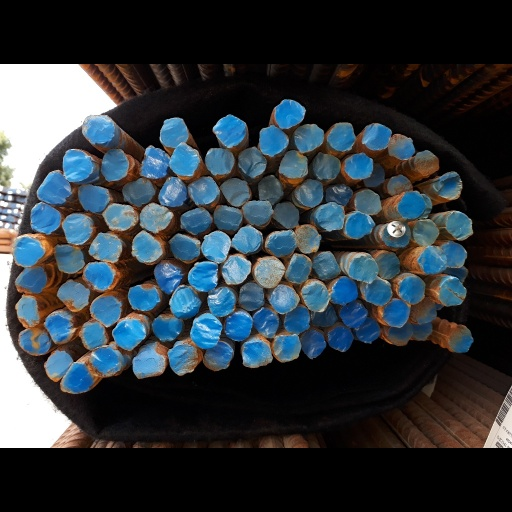dipstick: (212, 114, 247, 149), (36, 170, 72, 203), (190, 314, 222, 350), (169, 284, 202, 318), (168, 142, 200, 177), (88, 232, 123, 264), (59, 362, 93, 394), (139, 144, 170, 179), (57, 280, 90, 312), (112, 319, 145, 351), (11, 236, 45, 267), (167, 343, 199, 375), (132, 230, 163, 263), (82, 262, 116, 292), (43, 315, 77, 345), (139, 203, 174, 232), (275, 97, 306, 129), (258, 124, 289, 156), (62, 213, 93, 245), (30, 202, 61, 234), (89, 346, 121, 377), (82, 114, 115, 144), (102, 203, 137, 231), (90, 296, 121, 327), (292, 124, 324, 154), (169, 233, 201, 263), (63, 149, 93, 181), (77, 183, 109, 213), (53, 244, 85, 274), (44, 350, 74, 382), (269, 284, 300, 314), (203, 340, 233, 371), (445, 209, 474, 241), (237, 146, 266, 178), (122, 177, 154, 206), (128, 283, 160, 312), (18, 327, 51, 355), (222, 255, 252, 285), (187, 262, 217, 292), (159, 118, 189, 148), (157, 177, 187, 207), (266, 229, 297, 258), (219, 178, 250, 207), (201, 231, 230, 262), (252, 307, 279, 340), (101, 149, 128, 182), (396, 190, 426, 219), (255, 258, 285, 287), (241, 341, 273, 368), (15, 267, 47, 294), (14, 295, 40, 328), (417, 245, 446, 274), (316, 202, 345, 231), (326, 122, 355, 151), (301, 283, 330, 312), (224, 313, 253, 342), (313, 151, 341, 181), (278, 150, 308, 178), (295, 177, 323, 207), (284, 253, 312, 283), (79, 322, 109, 350), (242, 199, 273, 226), (231, 226, 262, 253), (204, 148, 235, 175), (154, 262, 180, 294), (151, 316, 183, 342), (133, 353, 166, 378), (438, 279, 467, 307), (313, 251, 341, 280), (346, 212, 375, 240), (273, 333, 301, 362), (207, 287, 235, 316), (362, 123, 392, 150), (348, 256, 378, 283), (299, 329, 326, 359), (237, 281, 264, 311), (382, 299, 410, 327), (436, 171, 463, 200), (412, 217, 439, 246), (344, 153, 373, 180), (330, 275, 357, 304), (398, 277, 426, 304), (272, 201, 299, 229), (388, 133, 415, 160), (383, 222, 411, 248), (364, 279, 392, 305), (440, 242, 467, 268), (413, 149, 439, 176), (355, 189, 382, 215), (296, 226, 322, 253), (340, 303, 368, 328), (258, 175, 282, 204), (411, 298, 437, 324), (283, 307, 309, 333), (375, 252, 400, 279), (356, 316, 380, 344), (213, 206, 242, 229), (448, 328, 473, 353), (328, 326, 353, 351), (310, 305, 337, 327), (388, 324, 413, 346), (326, 183, 352, 204), (386, 175, 413, 195), (364, 162, 385, 187), (409, 319, 432, 340), (444, 265, 468, 281), (420, 194, 432, 218)
